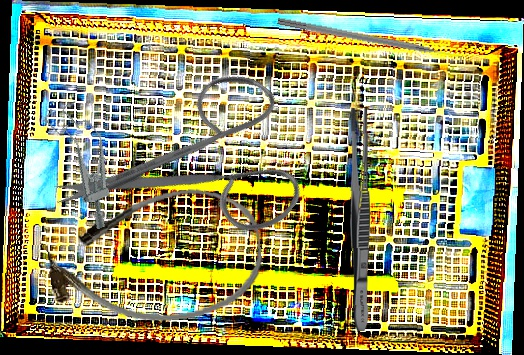Cannula: (41, 181, 269, 335)
Dressing Forceps: (347, 107, 373, 332)
Iris Scissors: (46, 23, 341, 322)
Pusher: (276, 17, 464, 63)
Speculum: (41, 95, 132, 234)
